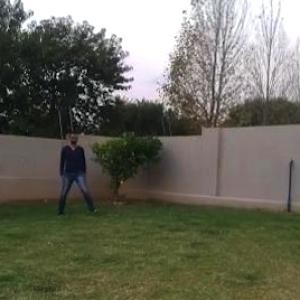follow: (63, 126, 84, 212)
